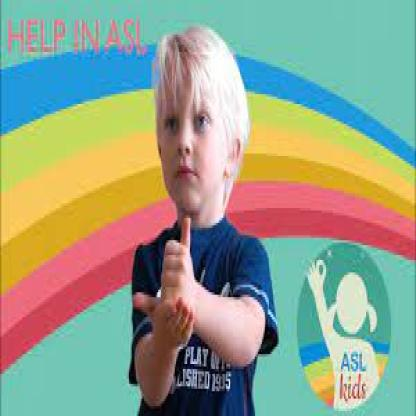help: (130, 171, 209, 372)
